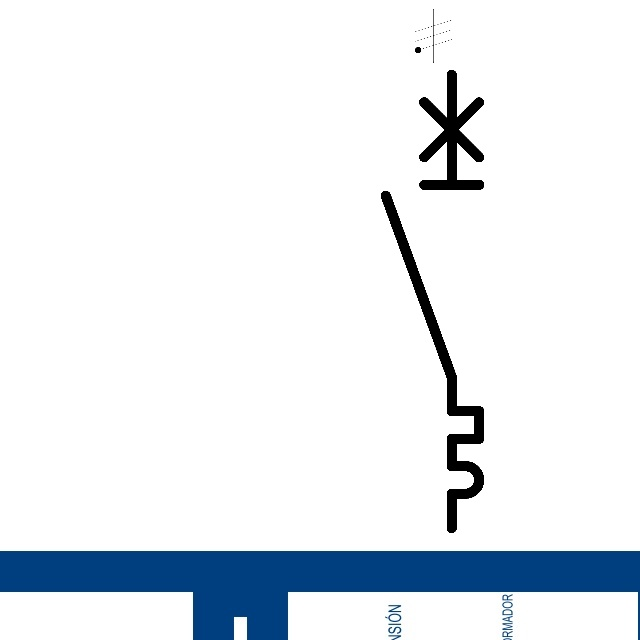interruptor_termomagnetico: (374, 62, 491, 539)
